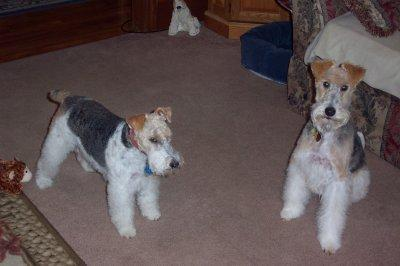wire-haired_fox_terrier: (36, 88, 185, 238), (280, 54, 369, 250), (166, 1, 200, 40)
